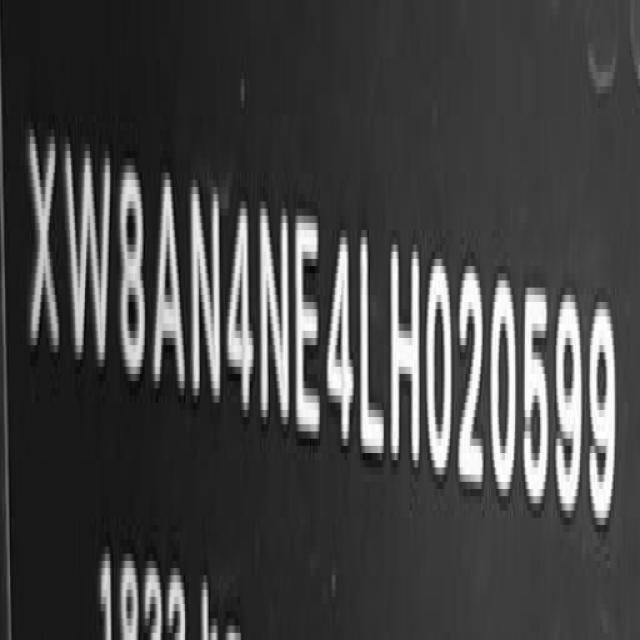0: (491, 266, 520, 502), (426, 248, 454, 489)
2: (459, 265, 486, 498)
4: (327, 223, 355, 466), (226, 187, 254, 426)
5: (522, 276, 552, 511)
8: (120, 153, 146, 389)
9: (590, 306, 620, 530), (554, 291, 582, 522)
A: (150, 165, 183, 405)
E: (296, 212, 324, 450)
H: (390, 234, 424, 478)
L: (359, 232, 388, 470)
N: (256, 197, 293, 439), (192, 174, 222, 415)
W: (63, 140, 115, 377)
X: (27, 122, 59, 369)
